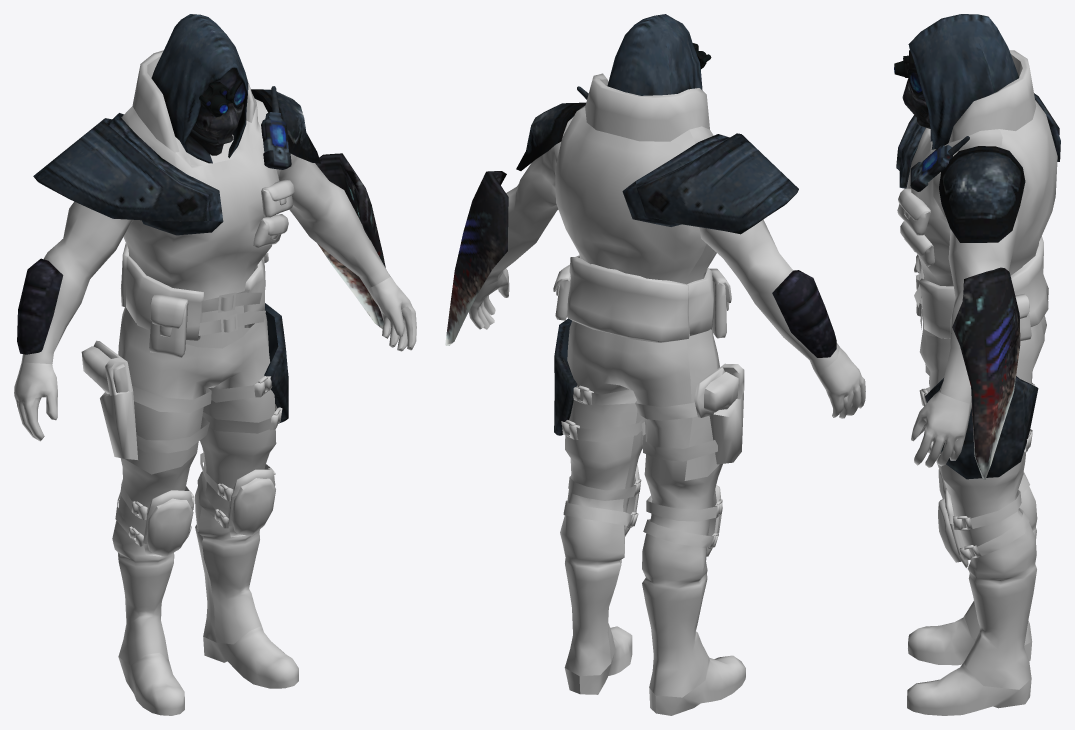
Rendered from bw_trooper.FBX.
3 views of the same model, side by side, from view 1: azimuth 30°, elevation 25°; view 2: azimuth 150°, elevation 25°; view 3: azimuth 270°, elevation 25° (orthographic).
Visible parts, largest first — view 1: DrawCall_002, DrawCall_001, DrawCall_003; view 2: DrawCall_002, DrawCall_001, DrawCall_003; view 3: DrawCall_002, DrawCall_001, DrawCall_003.
Boxes of the visible parts, x1,y1,x2,y2 form: DrawCall_002: [14, 50, 416, 715]; DrawCall_001: [17, 14, 385, 423]; DrawCall_003: [81, 179, 294, 459]; DrawCall_002: [468, 73, 865, 715]; DrawCall_001: [445, 14, 836, 435]; DrawCall_003: [553, 264, 744, 464]; DrawCall_002: [906, 50, 1057, 715]; DrawCall_001: [894, 14, 1060, 479]; DrawCall_003: [897, 188, 1031, 341].
Bounding box in the file's own units: 23.29 × 37.78 × 8.58.
